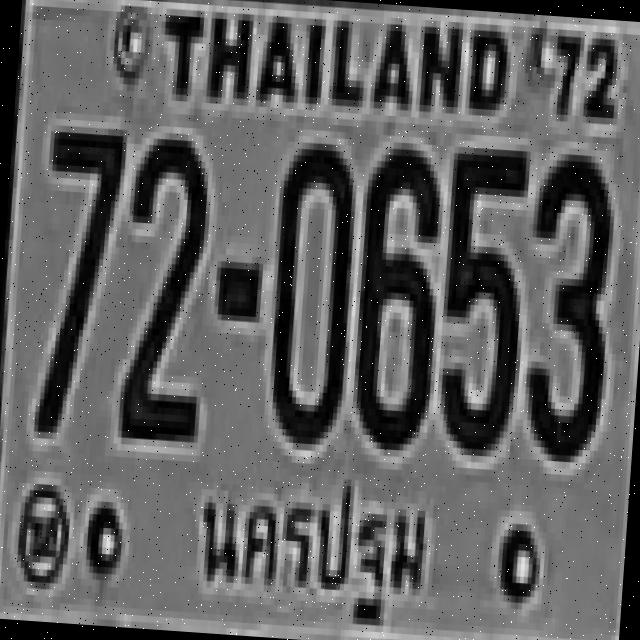0: (262, 134, 356, 439)
2: (115, 130, 212, 436)
3: (518, 145, 614, 457)
5: (429, 139, 526, 451)
6: (346, 140, 443, 445)
7: (30, 121, 124, 432)
NakhonPathom: (182, 465, 445, 640)
